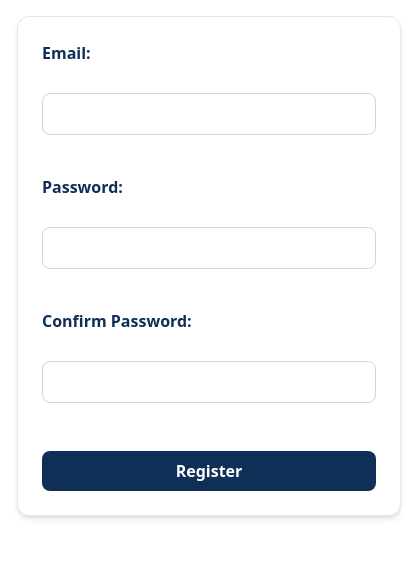
Test case: RegisterForm › shows error message when registration fails
This screenshot has width=419, height=573.
Type "existing@example.com" into the field labelled "Email:".
click(209, 114); type("existing@example.com")  # box [42,93,376,135]
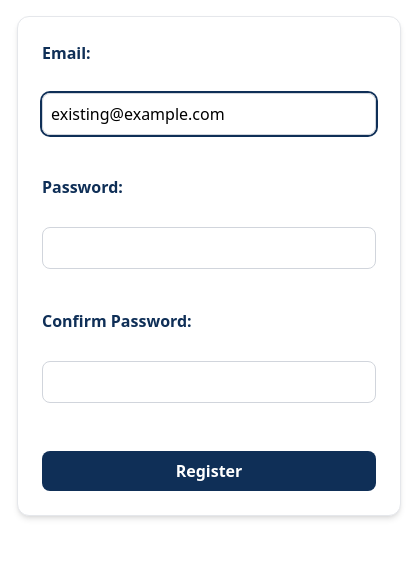
Type "password123" into the password field labelled "Password:".
click(209, 248); type("password123")  # box [42,227,376,269]
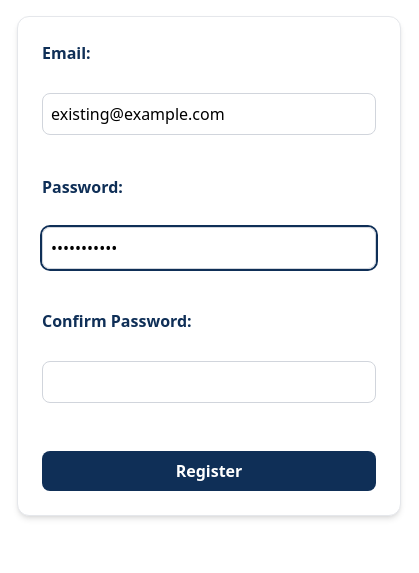
Type "password123" into the password field labelled "Confirm Password:".
click(209, 382); type("password123")  # box [42,361,376,403]
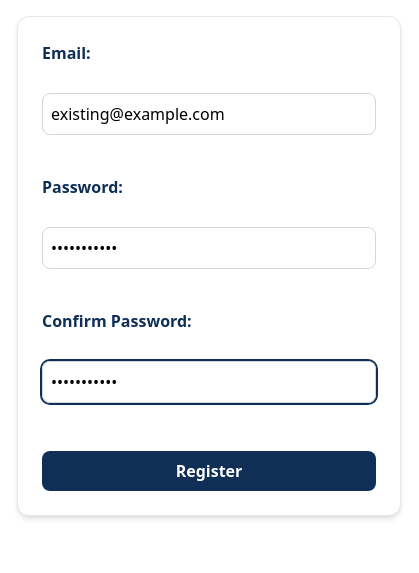
Click the button "Register".
click(209, 471)  # box [42,451,376,491]
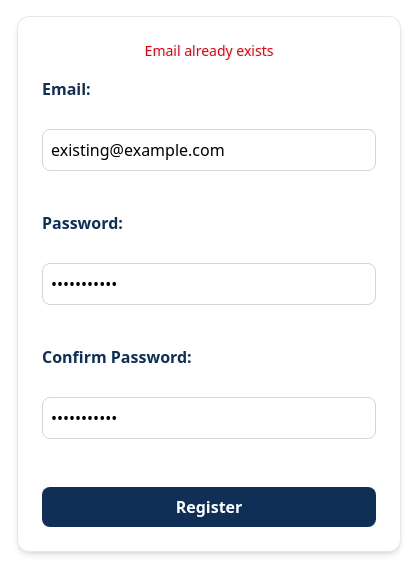
Now the text "Email already exists" is shown, box [145,41,273,60]
